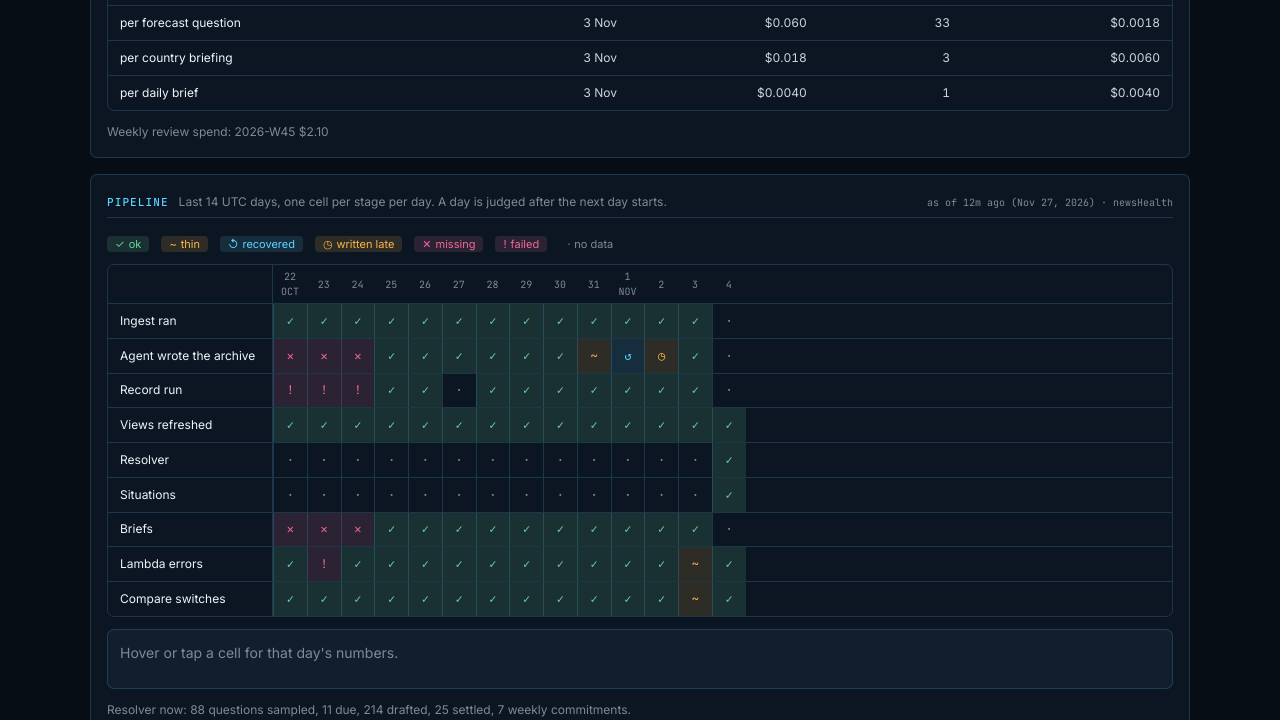
Test: OpsPage pipeline panel › a cell that could not be read shows its error text
(page scrolled)
Click the button named "Record run, 27 Oct: no data" at (459, 390), box [442, 374, 476, 407]
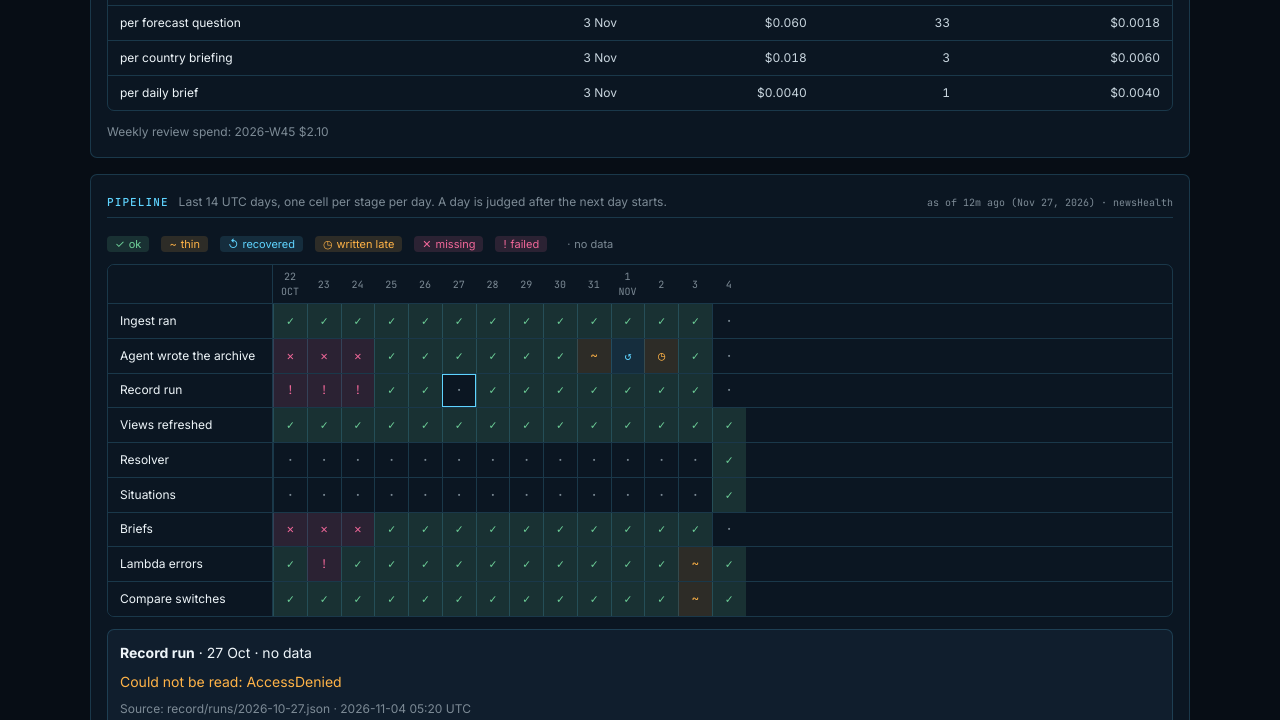
Expected: the text "Could not be read: AccessDenied" is shown, [120, 673, 342, 690]
